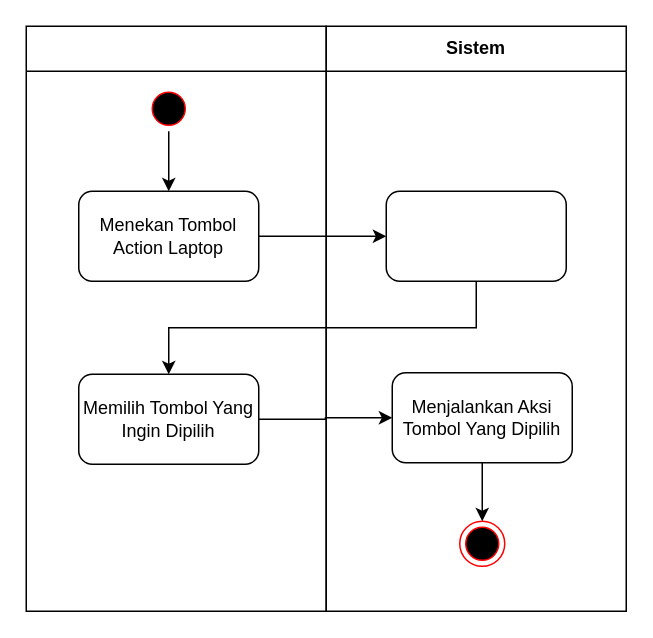
The diagram is 653 pixels wide and 638 high, and some of its shapes have lost their labels. The box of each missing label's shape, as (x1, y1, x2, y2) in pixels:
Menampilkan Panel Laptop: (385, 190, 566, 281)
Pengguna: (25, 25, 326, 611)
